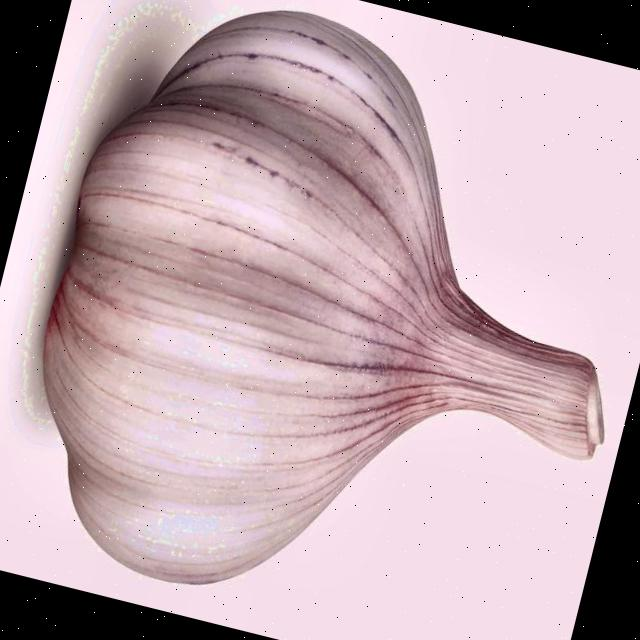garlic: (42, 12, 601, 583)
